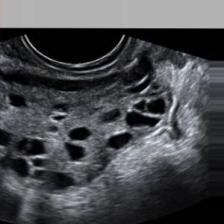pcos: (0, 55, 163, 192)
